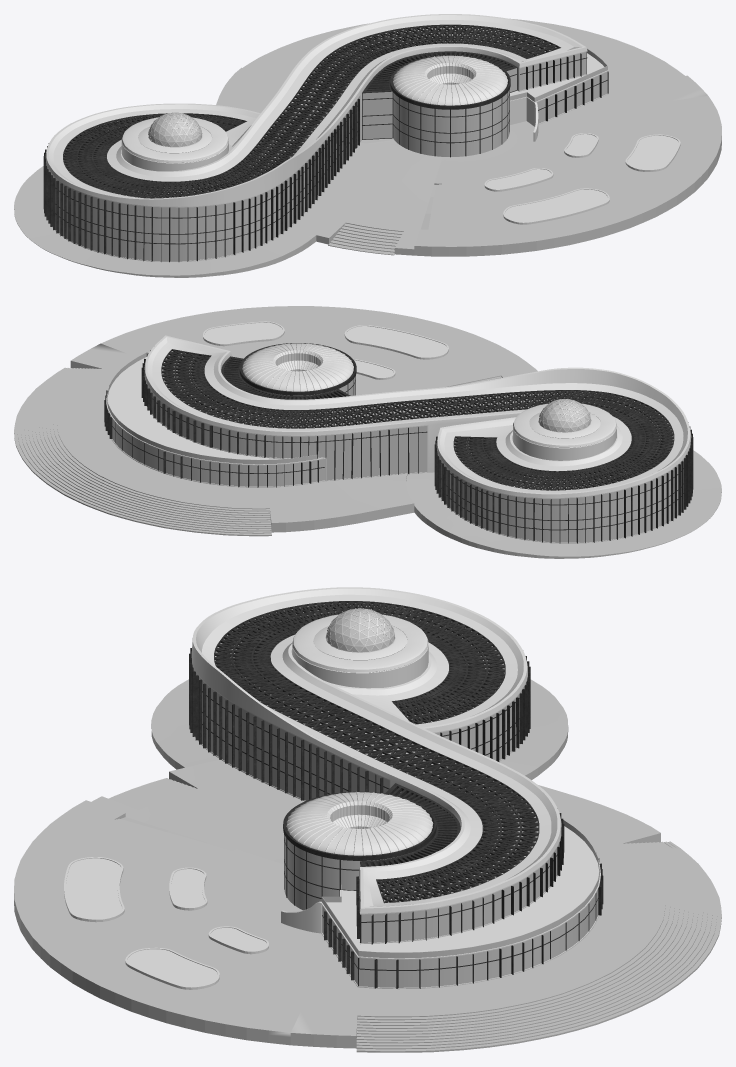
Rendered from KB3D_UTP_BldgSM_C.fbx.
The picture shows the model from 3 angles, top to bottom: view 1: azimuth 30°, elevation 25°; view 2: azimuth 150°, elevation 25°; view 3: azimuth 270°, elevation 25°; orthographic projection. The views are drawn at different scales.
Visible parts, largest first — view 1: KB3D_UTP_BldgSM_C_Main, KB3D_UTP_BldgSM_C_Base; view 2: KB3D_UTP_BldgSM_C_Main, KB3D_UTP_BldgSM_C_Base; view 3: KB3D_UTP_BldgSM_C_Main, KB3D_UTP_BldgSM_C_Base.
Part boxes in pixels (x1,y1,x2,y2): KB3D_UTP_BldgSM_C_Main: [43, 14, 608, 262]; KB3D_UTP_BldgSM_C_Base: [14, 18, 721, 277]; KB3D_UTP_BldgSM_C_Main: [104, 335, 693, 543]; KB3D_UTP_BldgSM_C_Base: [14, 306, 721, 558]; KB3D_UTP_BldgSM_C_Main: [189, 587, 603, 989]; KB3D_UTP_BldgSM_C_Base: [14, 679, 721, 1052].
Size of the model in its own units: 14411 by 1955 by 10536.
